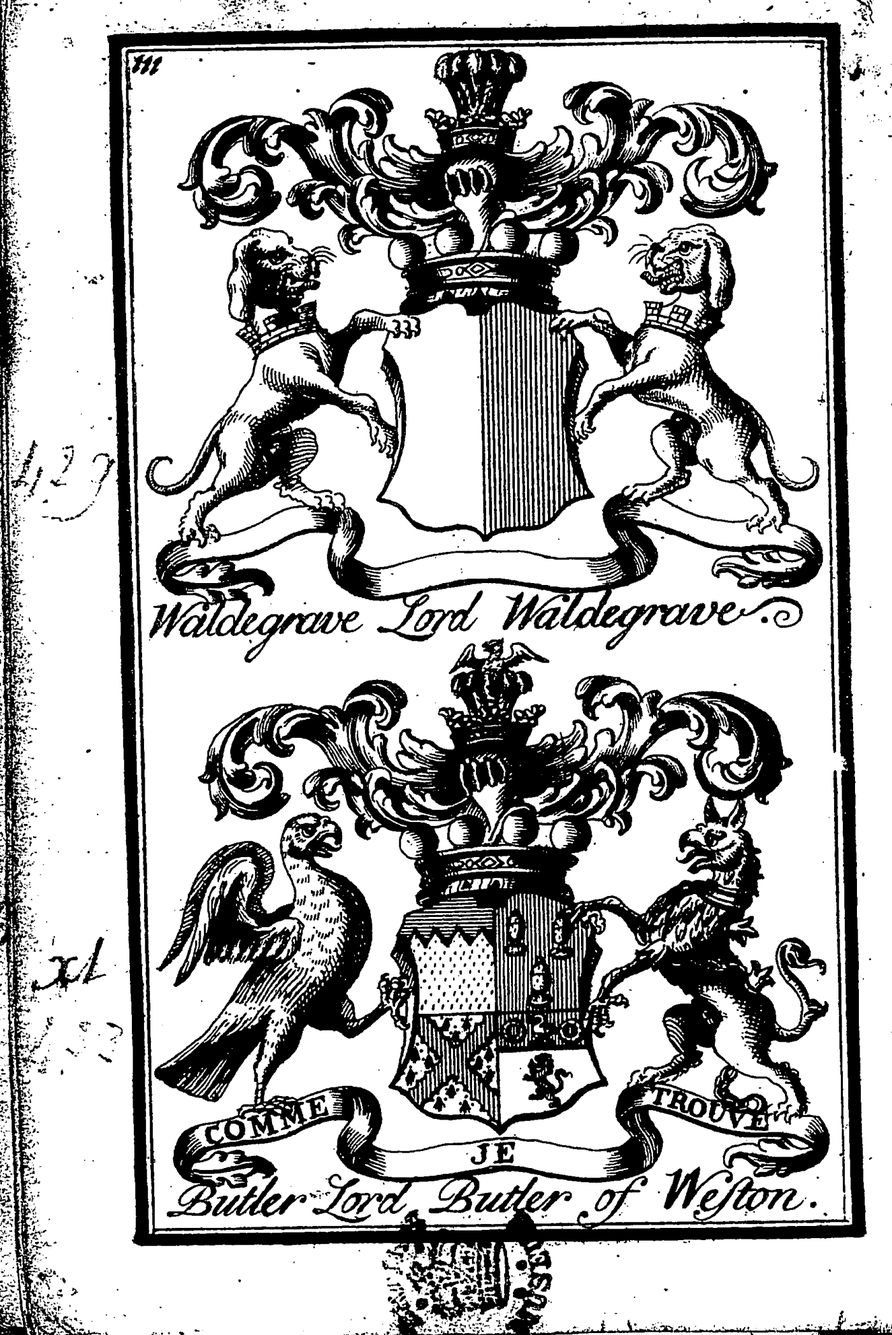coat_of_arms: (143, 628, 840, 1208), (150, 52, 809, 649)
